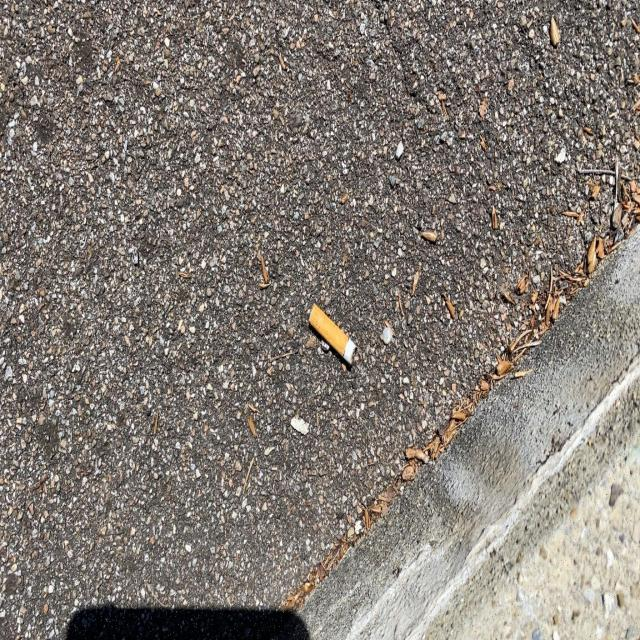other waste: (309, 303, 358, 367)
